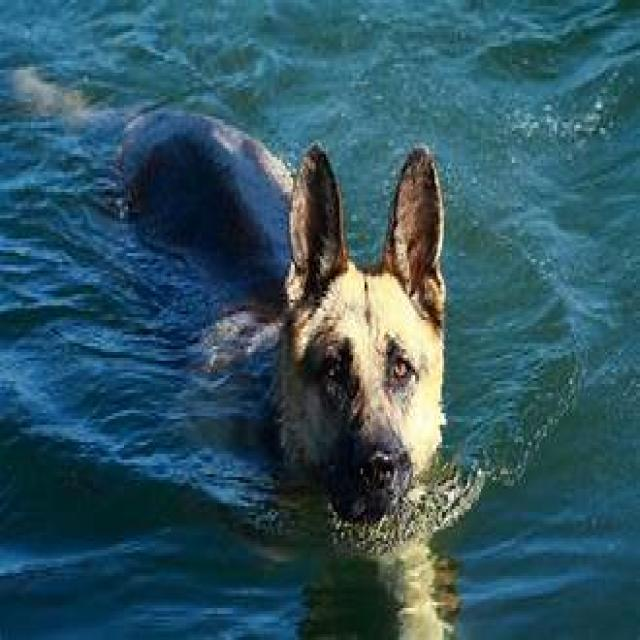dog: (243, 129, 487, 573)
